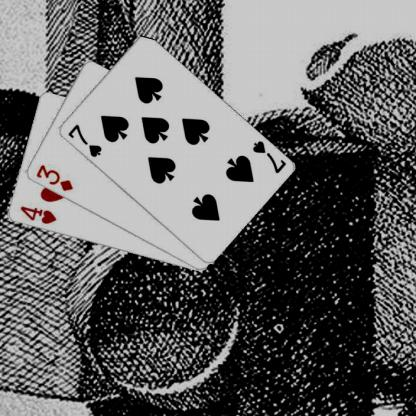3D: (33, 162, 75, 193)
4H: (17, 204, 57, 226)
7S: (250, 138, 288, 175), (65, 122, 103, 158)
